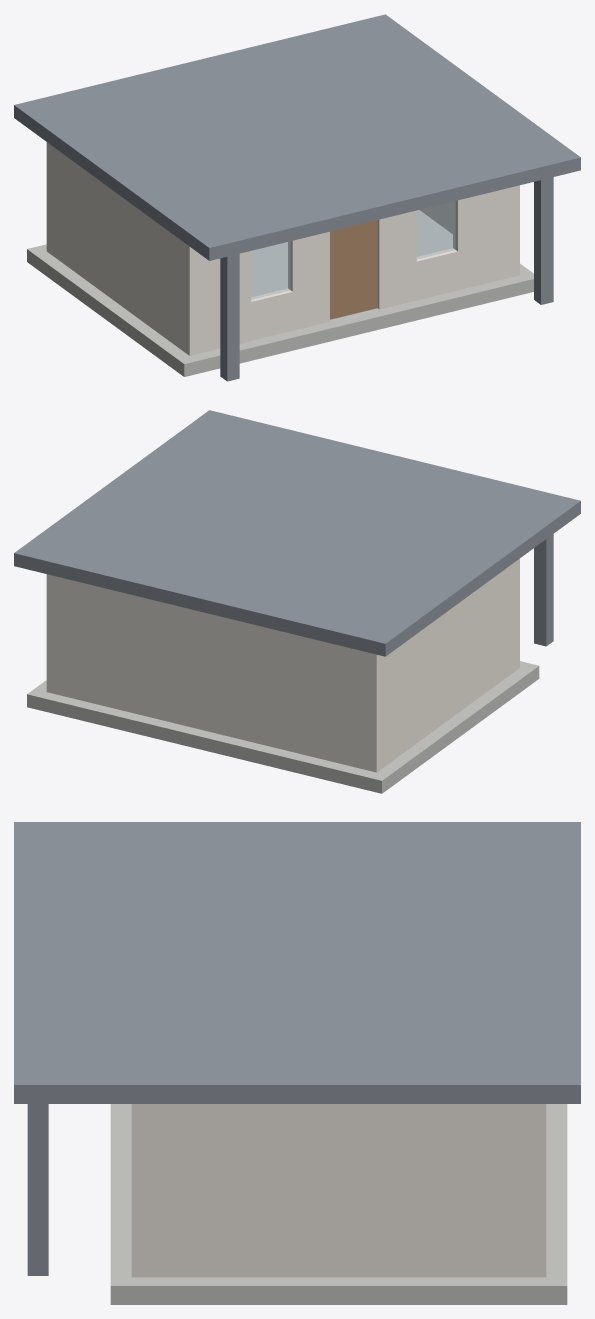
The picture shows the model from 3 angles, top to bottom: view 1: azimuth 30°, elevation 25°; view 2: azimuth 150°, elevation 25°; view 3: azimuth 270°, elevation 25°; orthographic projection. The views are drawn at different scales.
Parts seen in each view (by area): view 1: PlaceholderBuilding; view 2: PlaceholderBuilding; view 3: PlaceholderBuilding.
Boxes of the visible parts, x1,y1,x2,y2 form: PlaceholderBuilding: [14, 14, 580, 381]; PlaceholderBuilding: [14, 410, 580, 793]; PlaceholderBuilding: [14, 822, 580, 1304].
Size of the model in its own units: 9 by 3.6 by 8.2.
